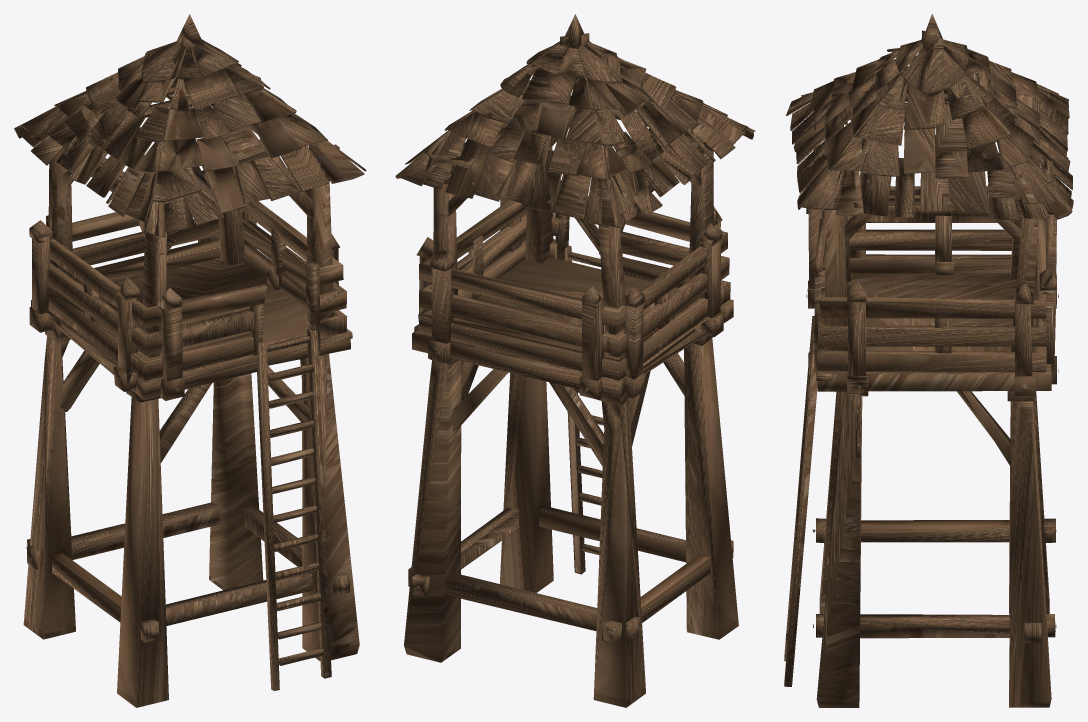
Rendered from watchtower.glb.
3 renders of one model, left to right at view 1: azimuth 30°, elevation 25°; view 2: azimuth 150°, elevation 25°; view 3: azimuth 270°, elevation 25°, orthographic. The views are drawn at different scales.
Bounding box in the file's own units: 0.369 × 0.9512 × 0.3908.
Materials: 1 (1 with a texture image).
